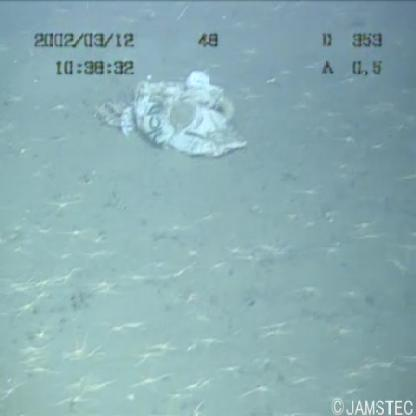Rác: (65, 67, 258, 164)
